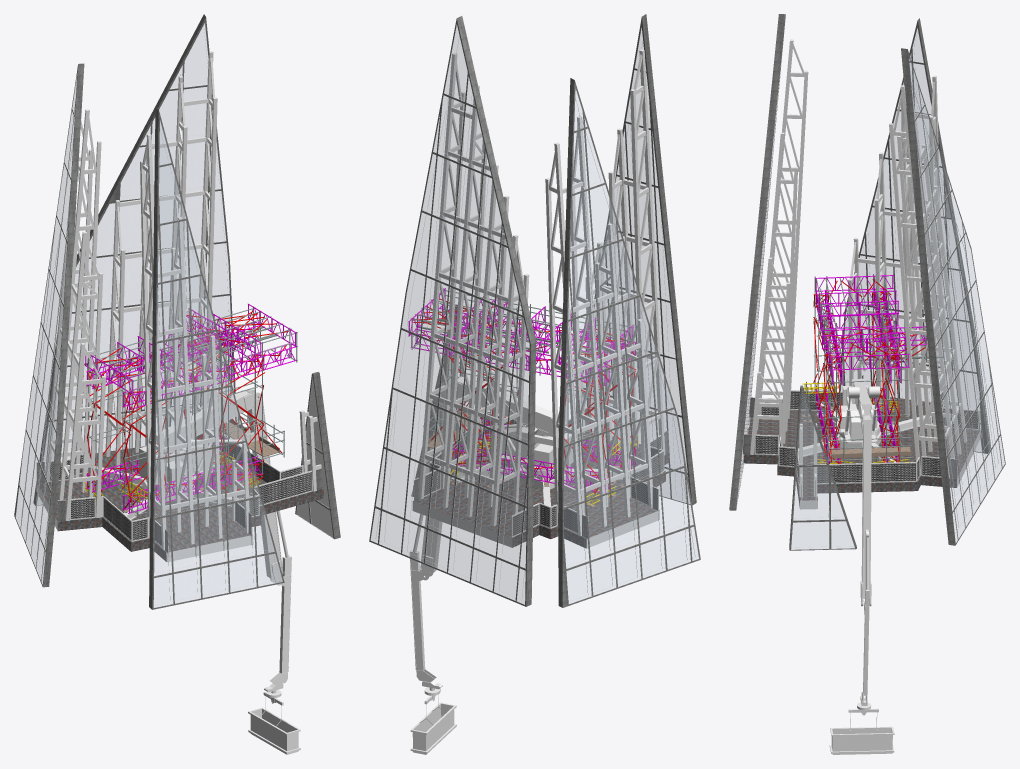
Rendered from Shard Model.glb.
The picture shows the model from 3 angles, left to right: view 1: azimuth 30°, elevation 25°; view 2: azimuth 150°, elevation 25°; view 3: azimuth 270°, elevation 25°; orthographic projection. The views are drawn at different scales.
Visible parts, largest first — view 1: Z_UP; view 2: Z_UP; view 3: Z_UP.
Part boxes in pixels (<box>): Z_UP: <box>14,14,340,754</box>; Z_UP: <box>369,14,700,754</box>; Z_UP: <box>729,14,1005,754</box>.
Size of the model in its own units: 386 by 982 by 361.
Materials: 11 (7 with a texture image).
